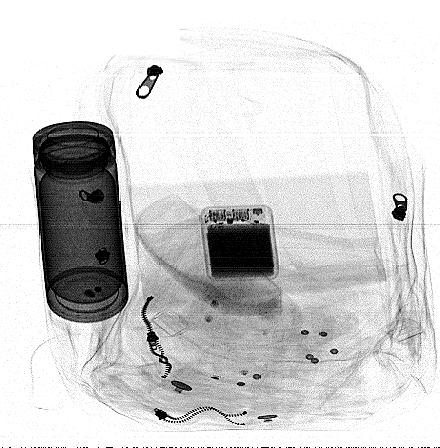Powerbank: (199, 205, 280, 281)
